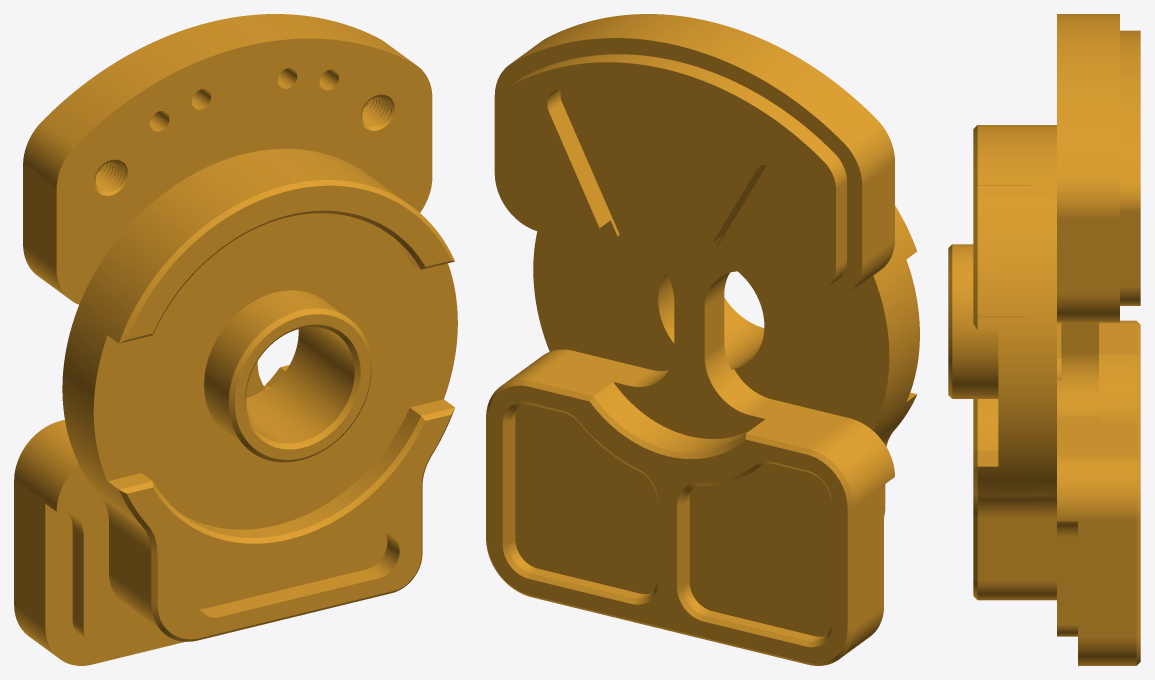
3 views of the same model, side by side, from view 1: azimuth 30°, elevation 25°; view 2: azimuth 150°, elevation 25°; view 3: azimuth 270°, elevation 25° (orthographic). The views are drawn at different scales.
Size of the model in its own units: 97 by 146 by 46.
